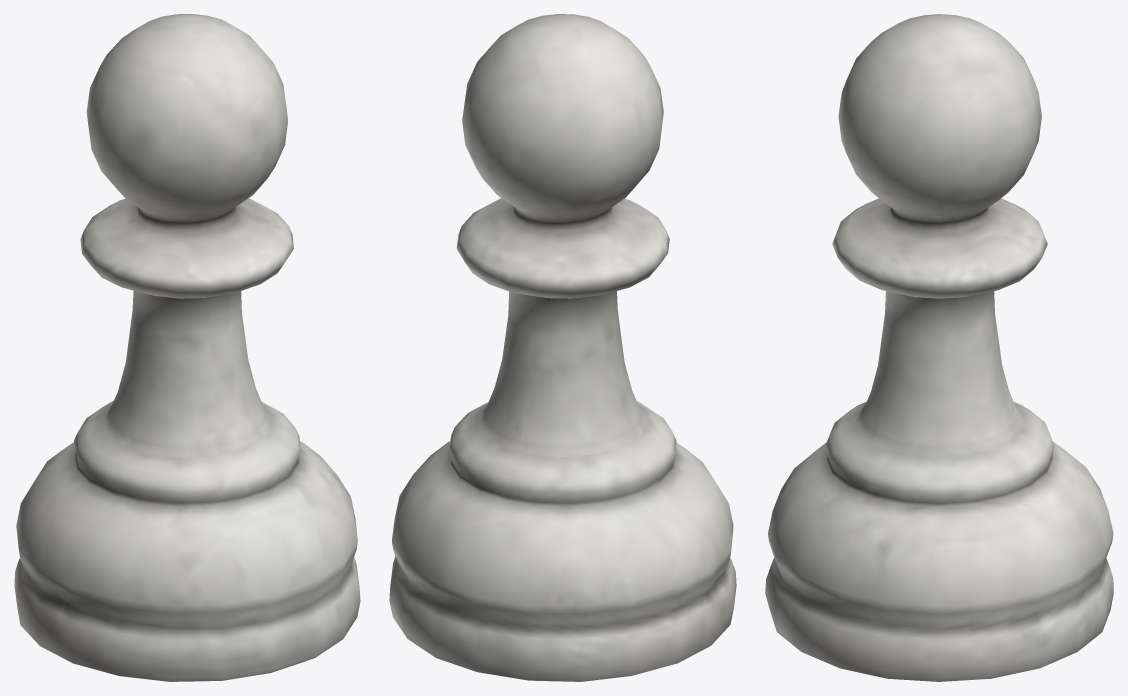
Rendered from pawn_white.glb.
The picture shows the model from 3 angles, left to right: view 1: azimuth 30°, elevation 25°; view 2: azimuth 150°, elevation 25°; view 3: azimuth 270°, elevation 25°; orthographic projection.
Visible parts, largest first — view 1: piece_pawn_white_01; view 2: piece_pawn_white_01; view 3: piece_pawn_white_01.
Part boxes in pixels (bbox=[...]): piece_pawn_white_01: bbox=[14, 14, 360, 681]; piece_pawn_white_01: bbox=[389, 14, 736, 681]; piece_pawn_white_01: bbox=[765, 14, 1113, 681].
Size of the model in its own units: 0.0289 by 0.0537 by 0.0289.
1 material, 1 textured.
